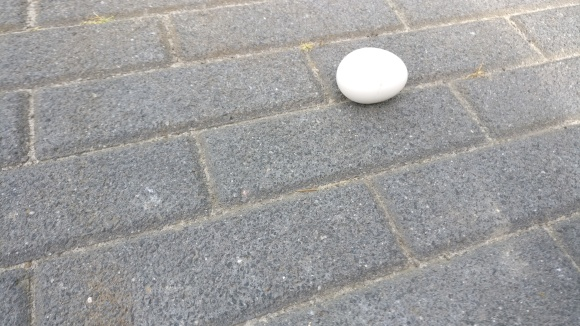egg: (335, 46, 408, 107)
